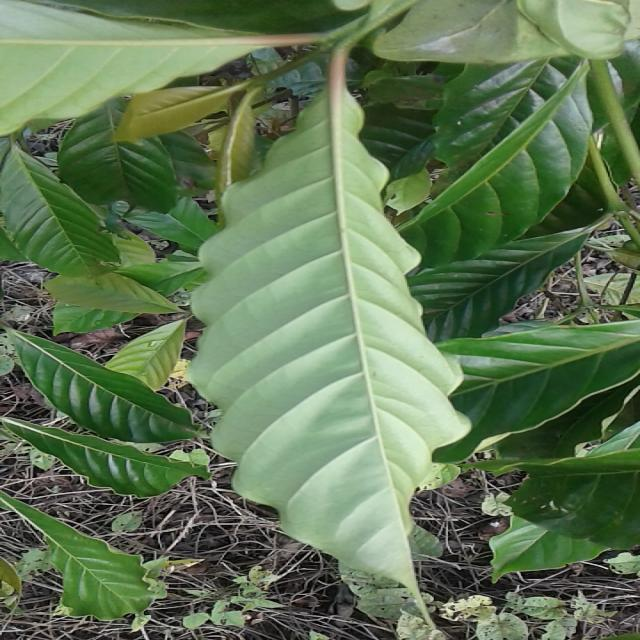Sanas: (181, 97, 470, 622)
